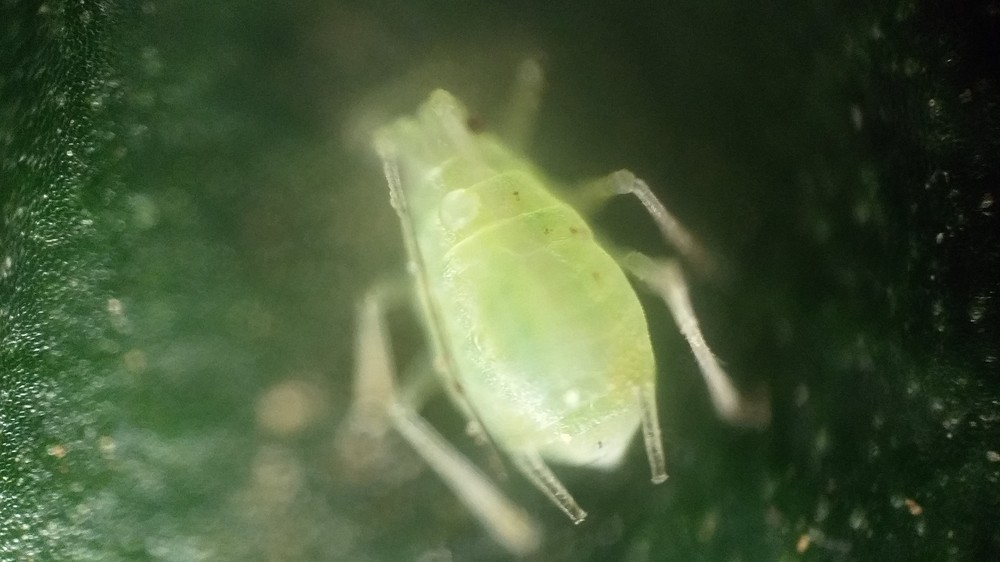Pulgon: (265, 42, 785, 551)
